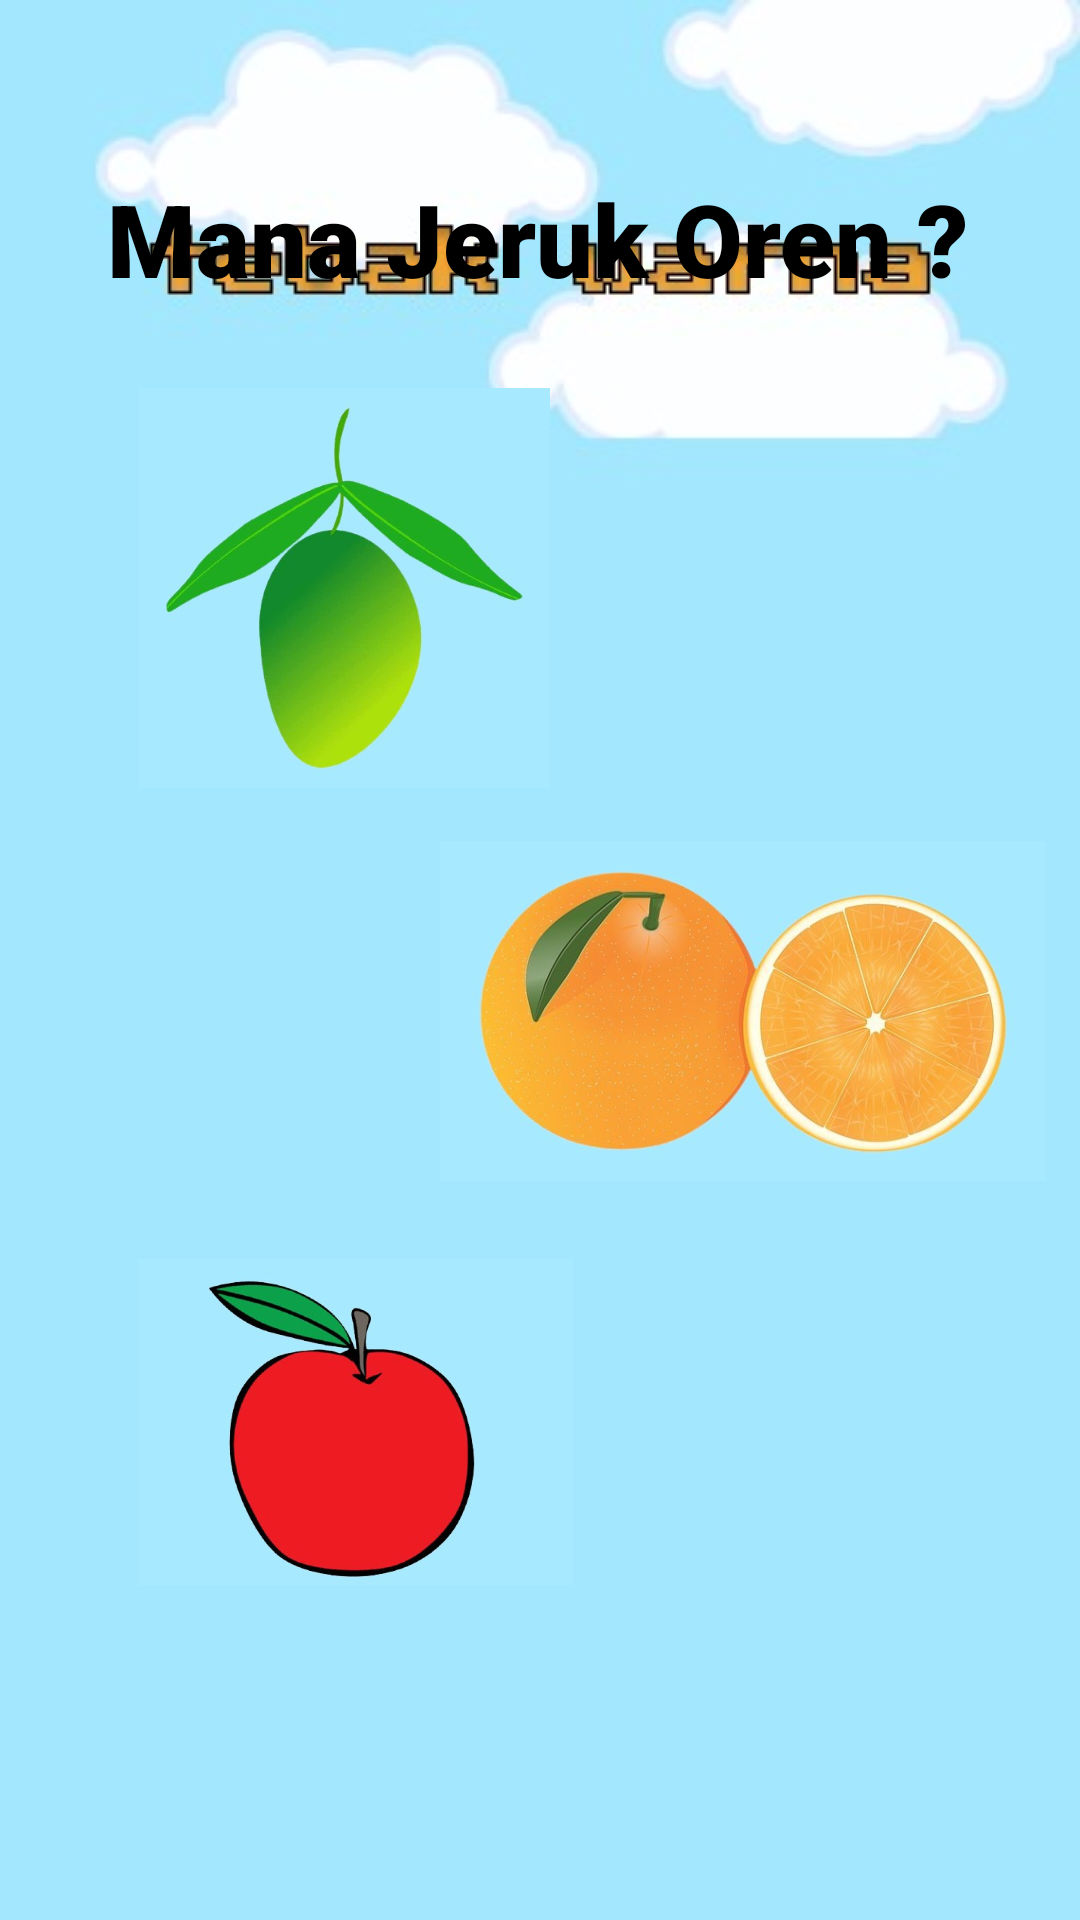

Named icons in this screenshot (1080px x 1920px) and their bounding boxes, (x1, y1, x2, y2):
apelmerah: (209, 1281, 475, 1577)
